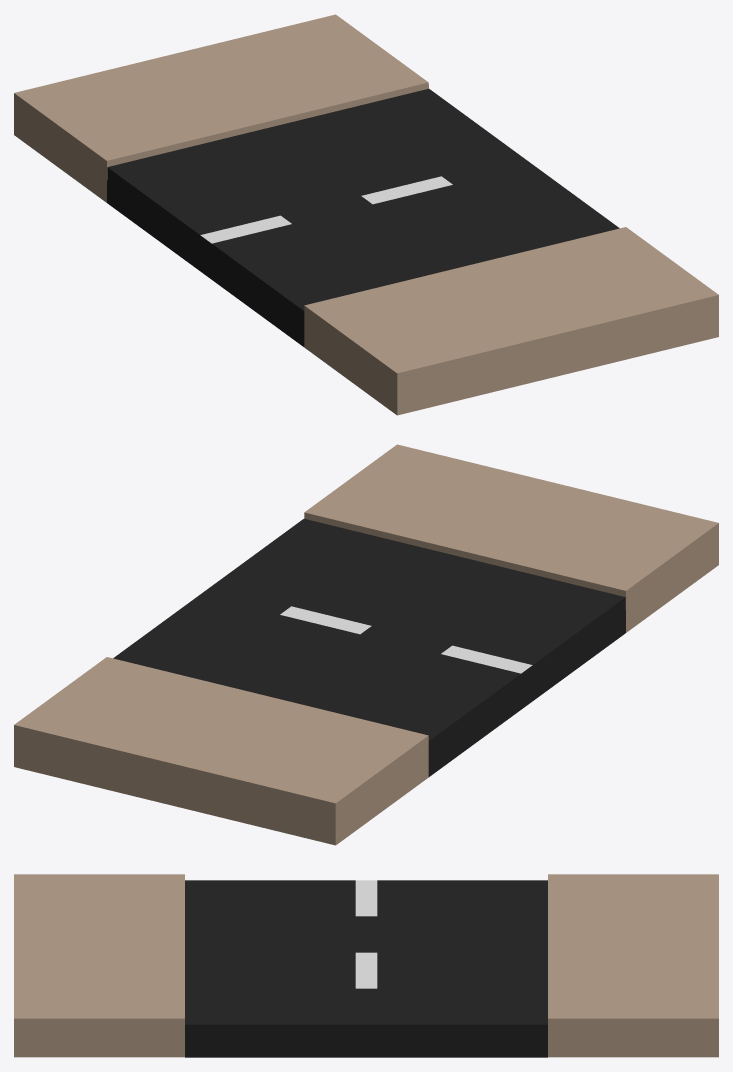
File: road.fbx
3 views of the same model, one above another, from view 1: azimuth 30°, elevation 25°; view 2: azimuth 150°, elevation 25°; view 3: azimuth 270°, elevation 25° (orthographic). The views are drawn at different scales.
Visible parts, largest first — view 1: Cube.000; view 2: Cube.000; view 3: Cube.000.
Part boxes in pixels (box(x1,y1,x2,y2)): Cube.000: box(14, 14, 718, 415); Cube.000: box(14, 444, 718, 845); Cube.000: box(14, 874, 718, 1057).
Size of the model in its own units: 1602 by 200 by 3300.
